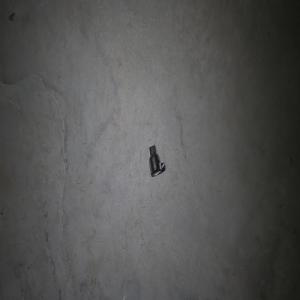MetalPart: (148, 144, 165, 176)
